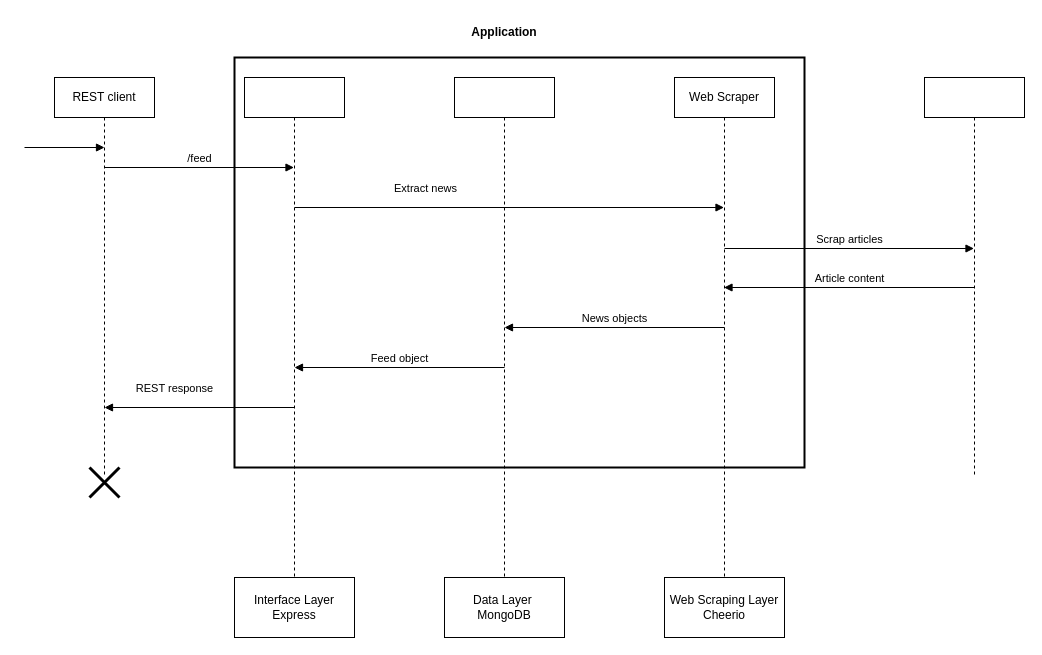
The diagram is 1042 pixels wide and 655 high, and some of its shapes have lost their labels. The box of each missing label's shape, as (x1, y1, x2, y2) in pixels:
Model: (454, 76, 554, 578)
REST-API: (244, 76, 344, 578)
Web page: (924, 76, 1024, 478)
